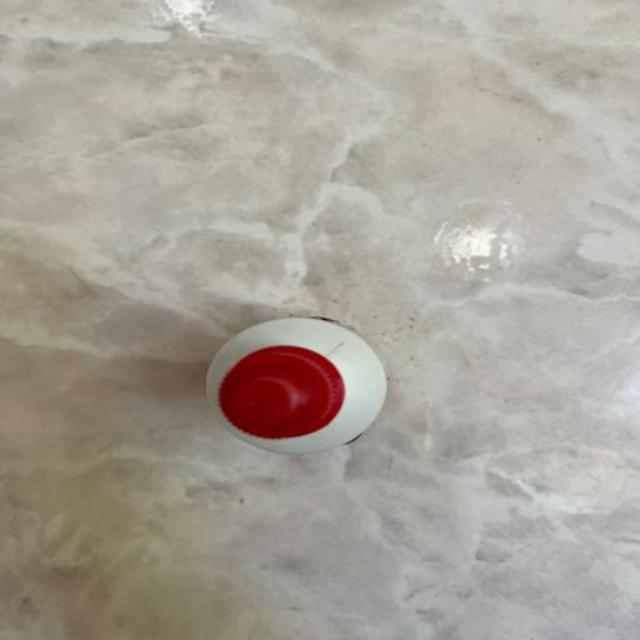HDPE: (186, 305, 436, 508)
